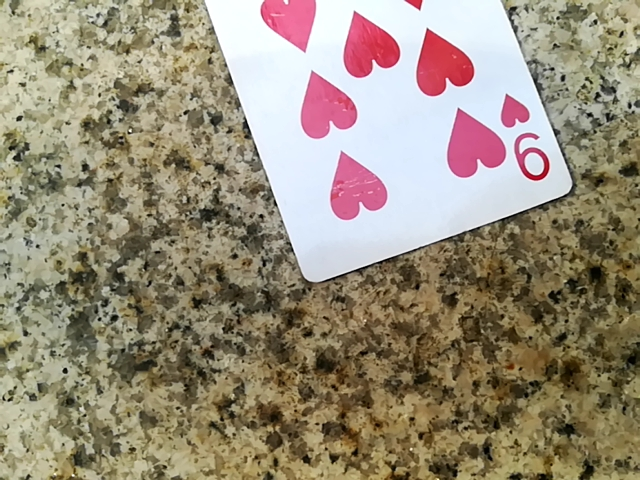hx 9: (168, 0, 555, 278)
